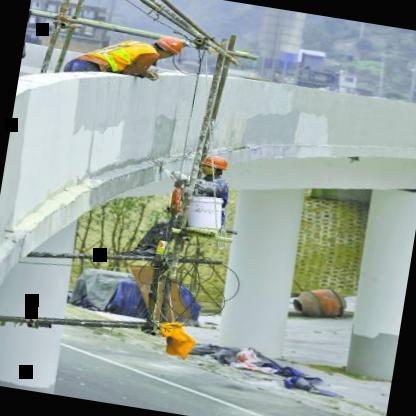helmet: (195, 151, 230, 182), (149, 32, 185, 62)
